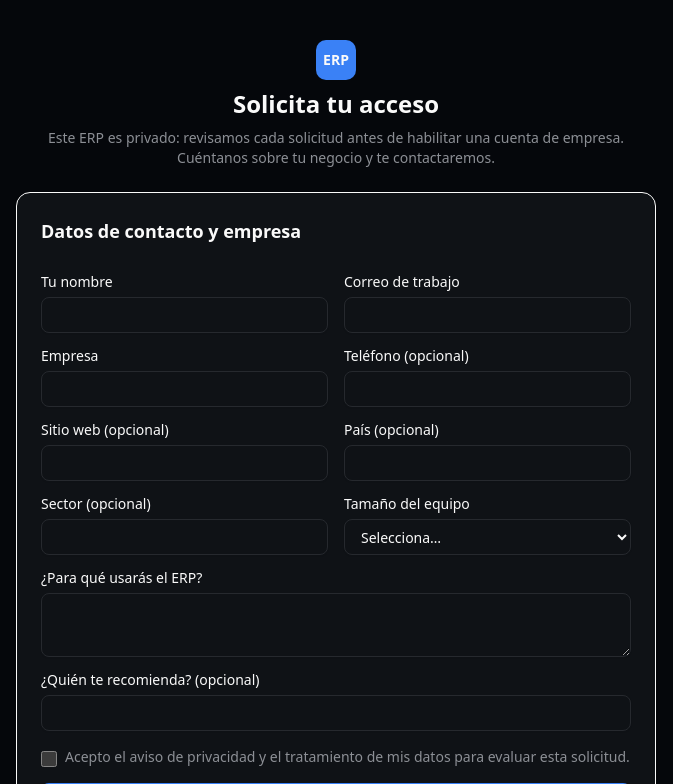
Scenario: funnel público de solicitud › envía la solicitud válida y confirma
In the field labelled "Tu nombre": (184, 315) [41,297,328,333], type "Ana"
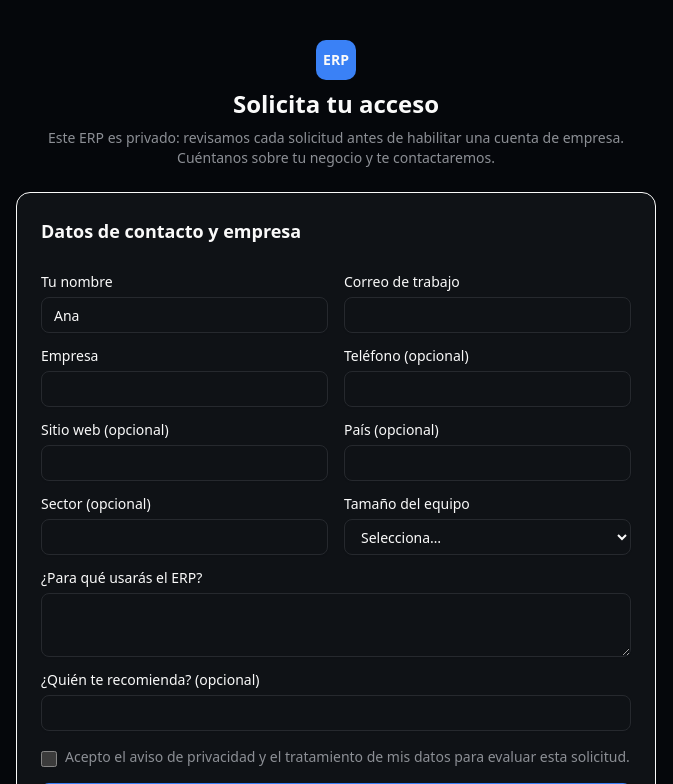
In the field labelled "Correo de trabajo": (488, 315) [344,297,631,333], type "ana@empresa.com"
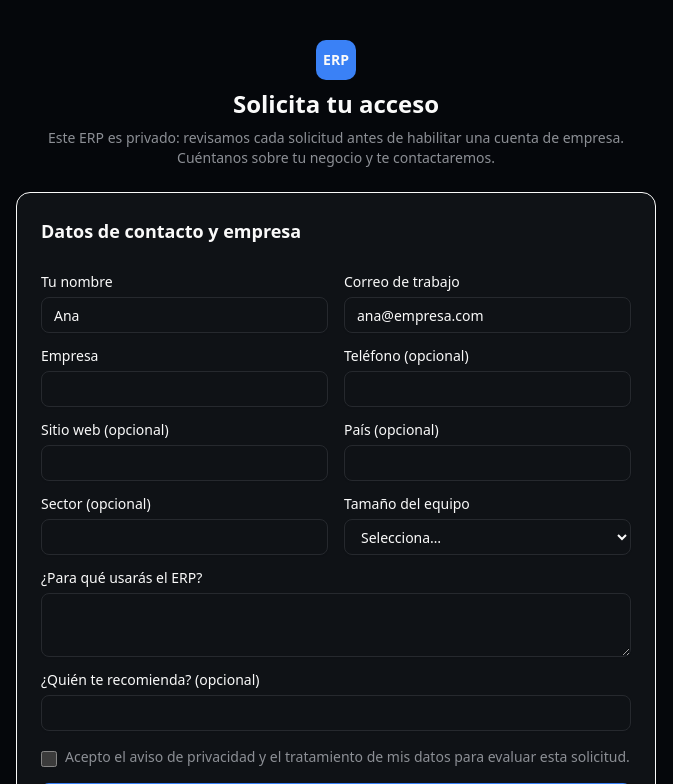
In the field labelled "Empresa": (184, 389) [41,371,328,407], type "Empresa SA"
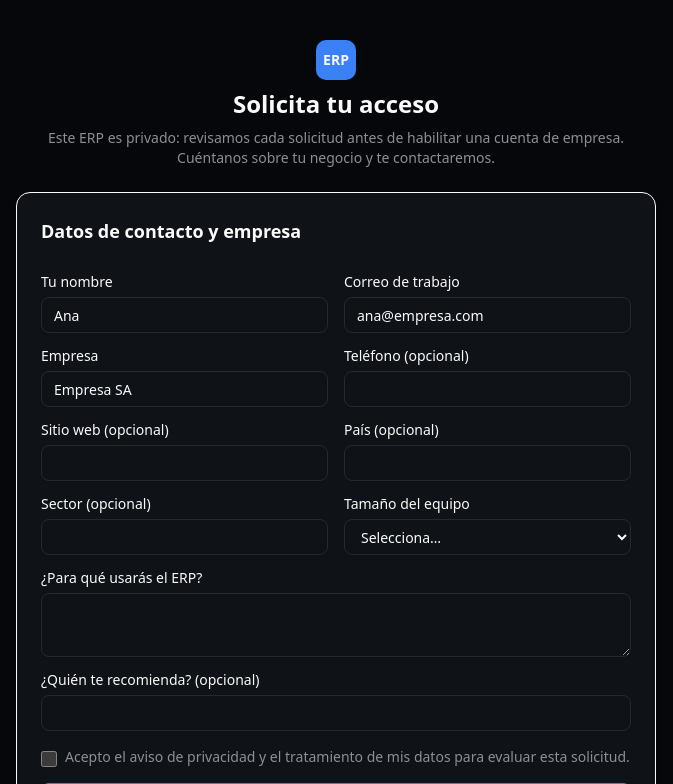
Click the checkbox: (49, 759) [41,751,57,767]
(page scrolled)
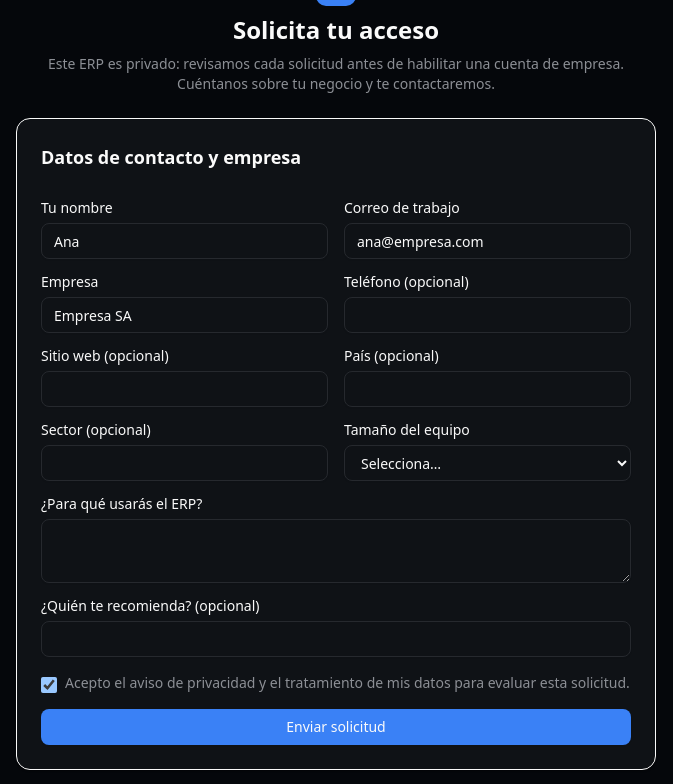
Click the button "Enviar solicitud": (336, 727) [41,709,631,745]
(page scrolled)
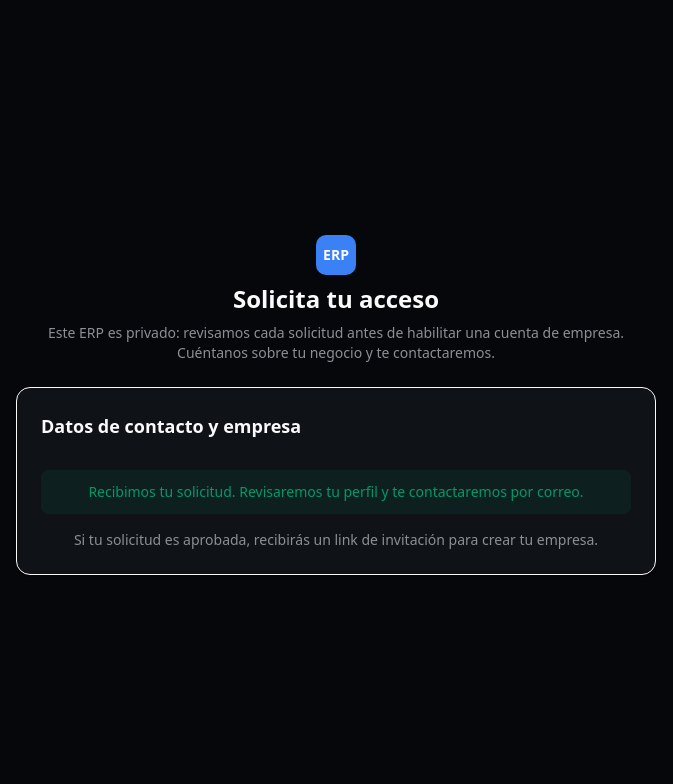
Now the text "Recibimos tu solicitud. Revisaremos tu perfil y te contactaremos por correo." is shown, box [41,470,631,514]
